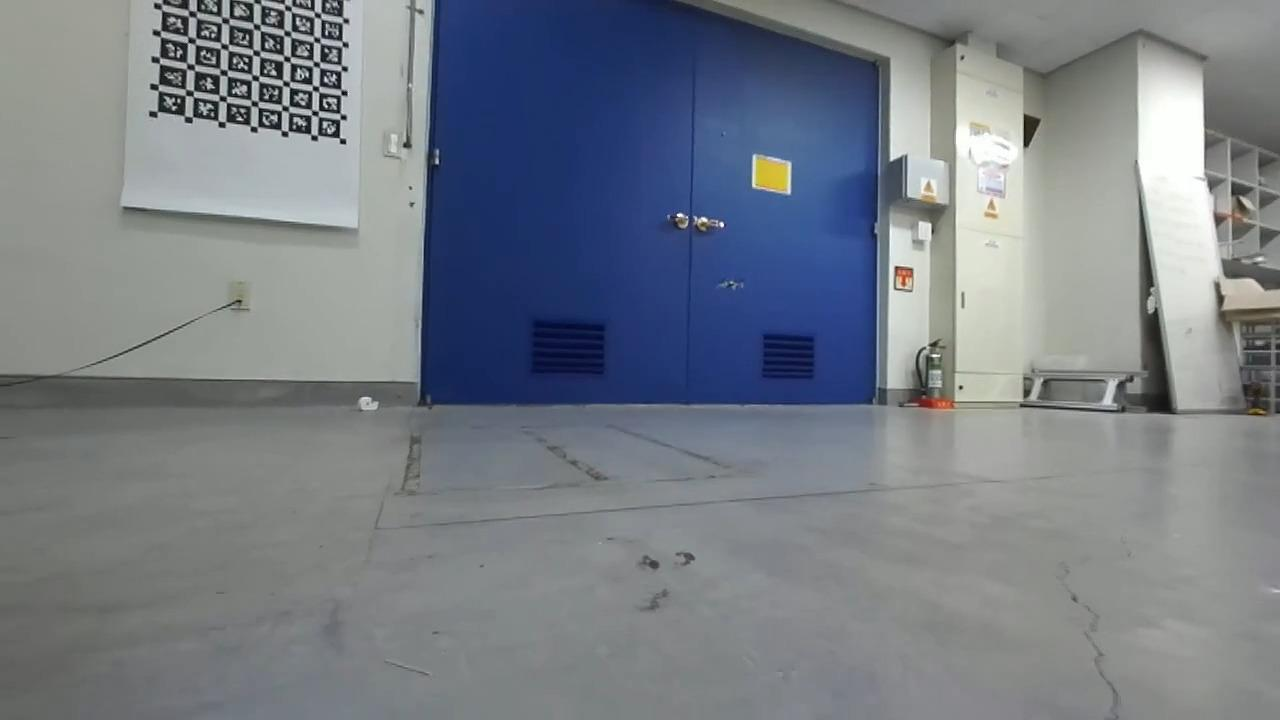crazyflie: (710, 273, 750, 295)
